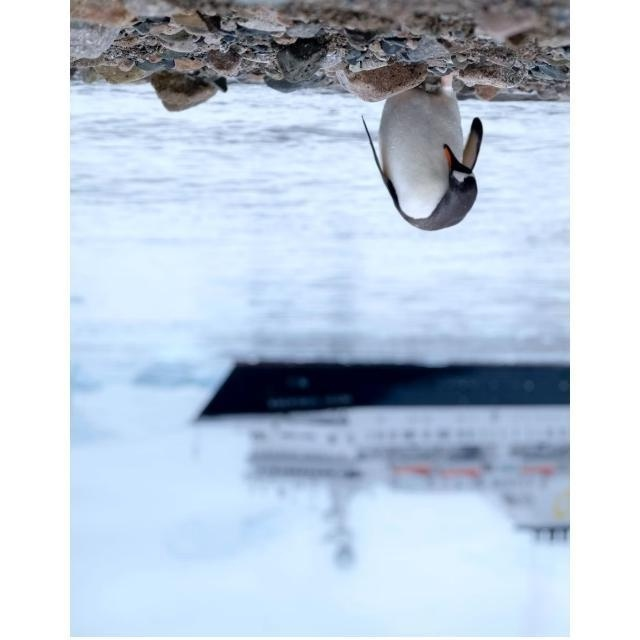penguin: (361, 73, 485, 231)
